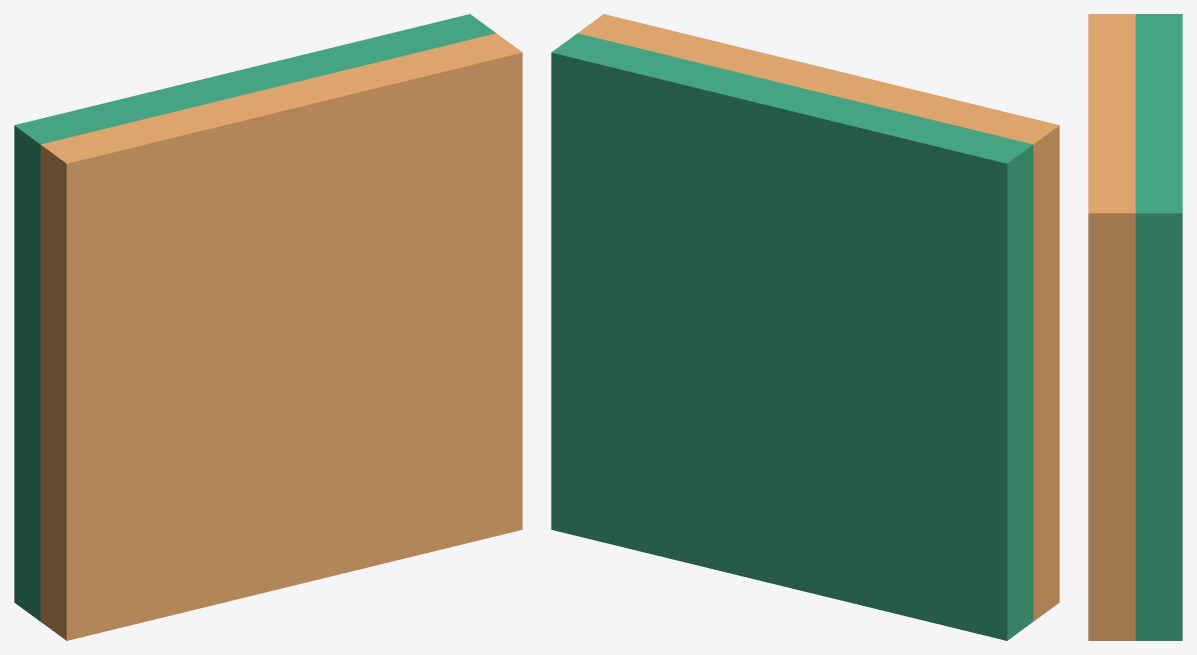
Rendered from tile.obj.
3 views of the same model, side by side, from view 1: azimuth 30°, elevation 25°; view 2: azimuth 150°, elevation 25°; view 3: azimuth 270°, elevation 25° (orthographic). The views are drawn at different scales.
Parts seen in each view (by area): view 1: tile.1878; view 2: tile.1878; view 3: tile.1878.
Part boxes in pixels (box(x1,y1,x2,y2)): tile.1878: box(14, 14, 522, 640); tile.1878: box(551, 14, 1059, 640); tile.1878: box(1088, 14, 1182, 640).
Size of the model in its own units: 1 by 1 by 0.2.
